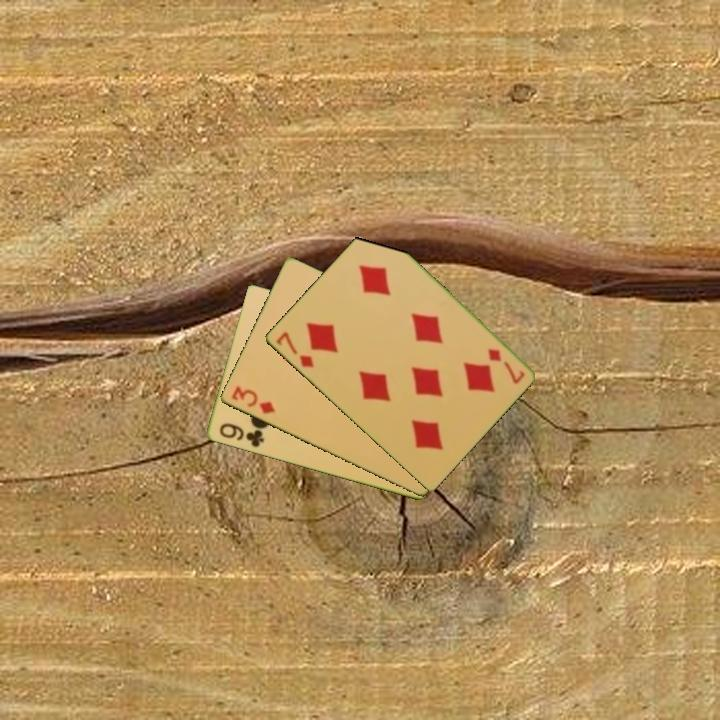3d: (227, 382, 278, 417)
7d: (272, 328, 317, 371), (484, 345, 527, 387)
9c: (215, 420, 266, 450)
